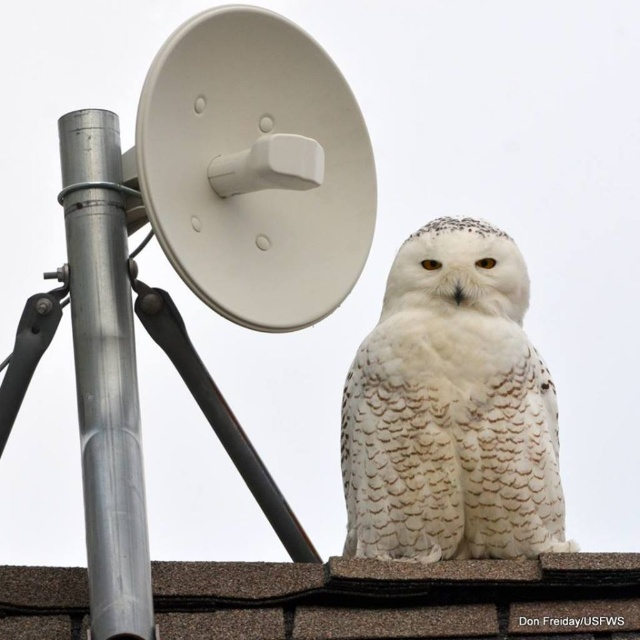Owl: (338, 215, 575, 568)
